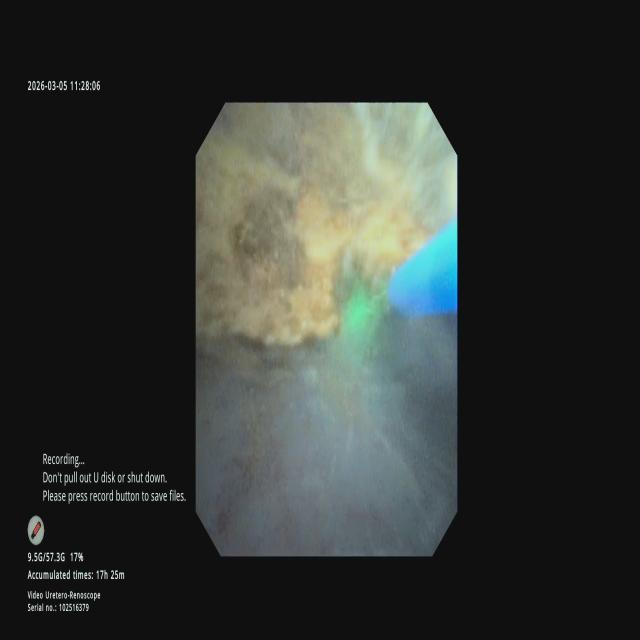laser_dot: (341, 281, 383, 341)
stone-new: (196, 103, 456, 346)
